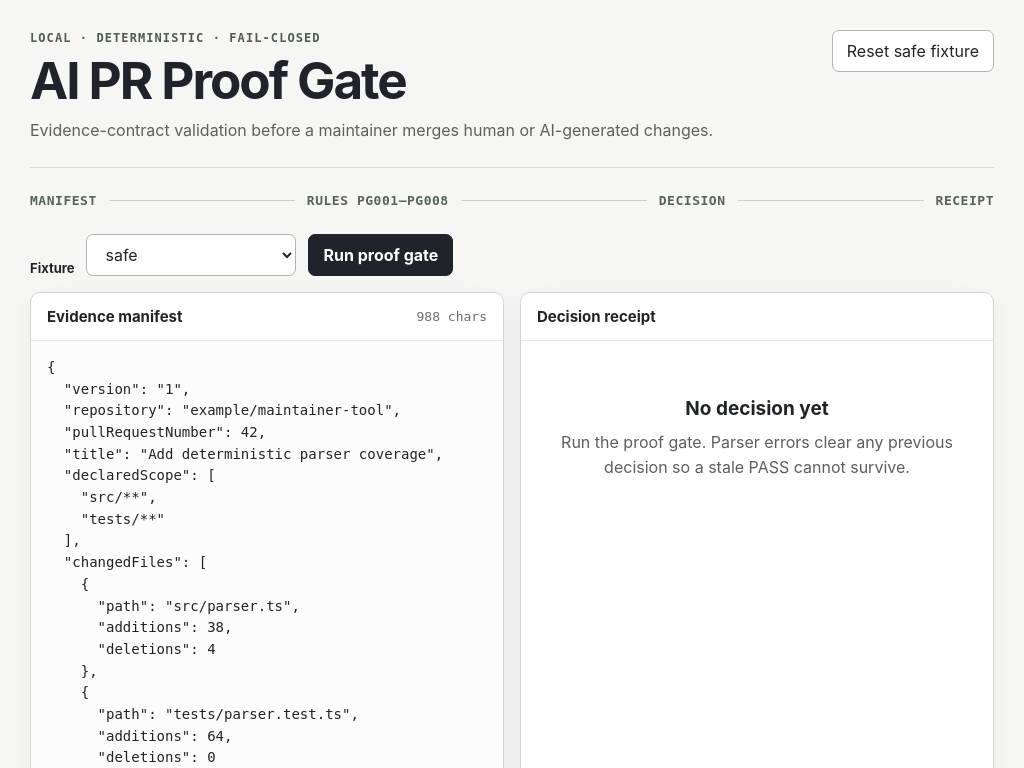
Test: AI PR Proof Gate UI › selects a blocked fixture and exposes the exact rule
Select "outOfScope" in the dropdown labelled "Fixture" at (192, 255), box [86,234,296,276]
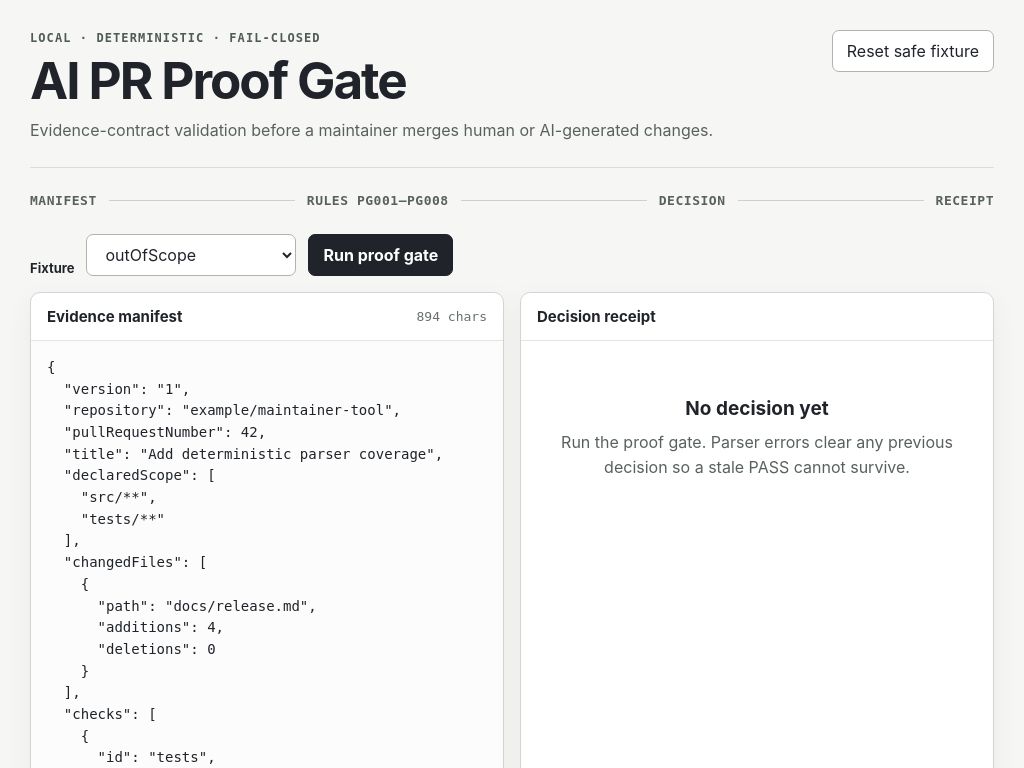
Click the button "Run proof gate" at (381, 255), box [308,234,453,276]
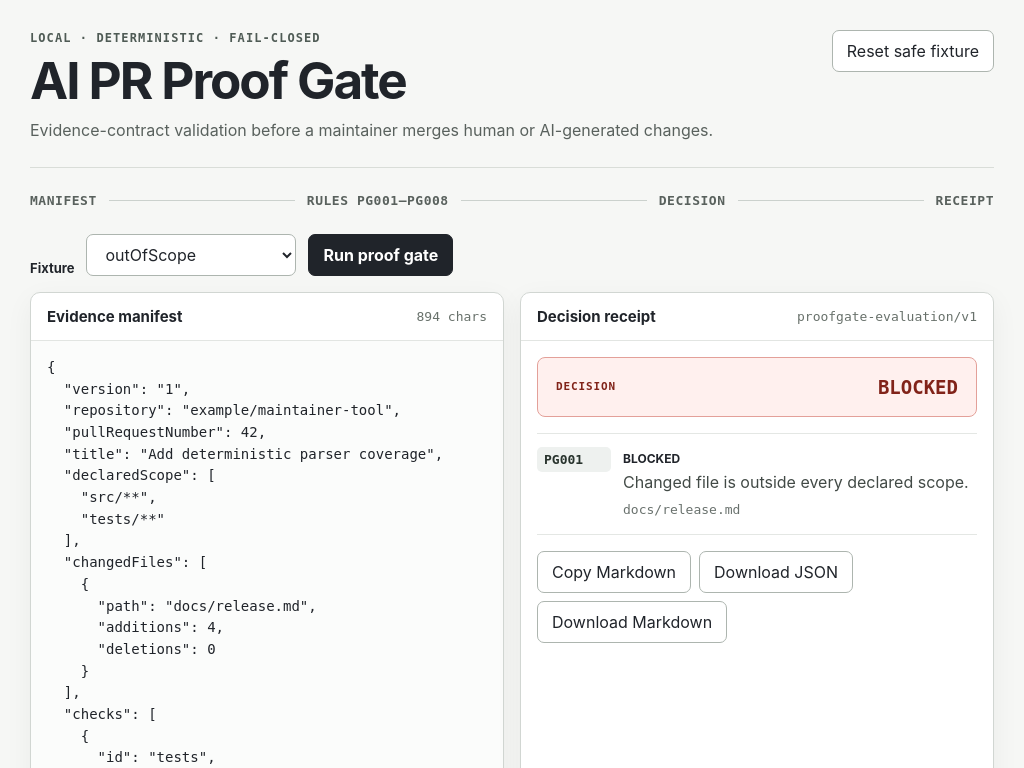
Result: the element with test id "decision" shows "BLOCKED" at [878,376,958,398]
Result: the text "PG001" is shown at [537,447,611,472]
